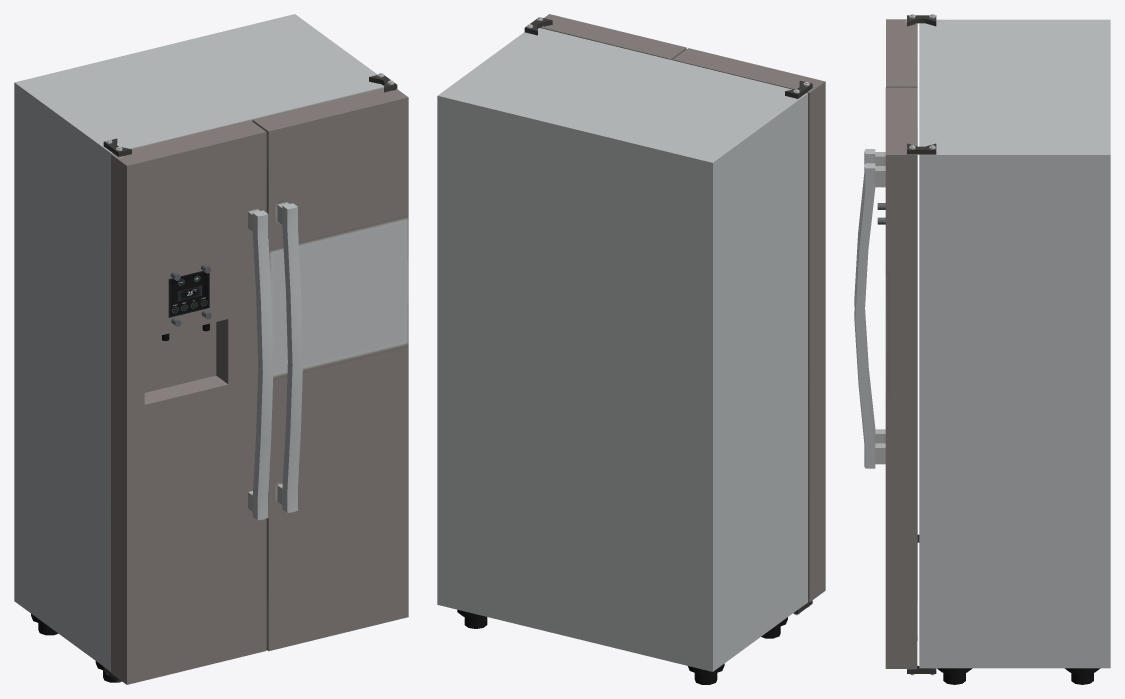
The model's file is aws_Refrigerator_01_visual.DAE.
3 views of the same model, side by side, from view 1: azimuth 30°, elevation 25°; view 2: azimuth 150°, elevation 25°; view 3: azimuth 270°, elevation 25° (orthographic).
Parts seen in each view (by area): view 1: aws_Refrigerator_01_visual; view 2: aws_Refrigerator_01_visual; view 3: aws_Refrigerator_01_visual.
Boxes of the visible parts, left/top/right/bottom form: aws_Refrigerator_01_visual: left=14, top=14, right=408, bottom=684; aws_Refrigerator_01_visual: left=437, top=14, right=825, bottom=684; aws_Refrigerator_01_visual: left=854, top=14, right=1110, bottom=684.
Bounding box in the file's own units: 104 × 83.08 × 194.
Materials: 2 (2 with a texture image).
